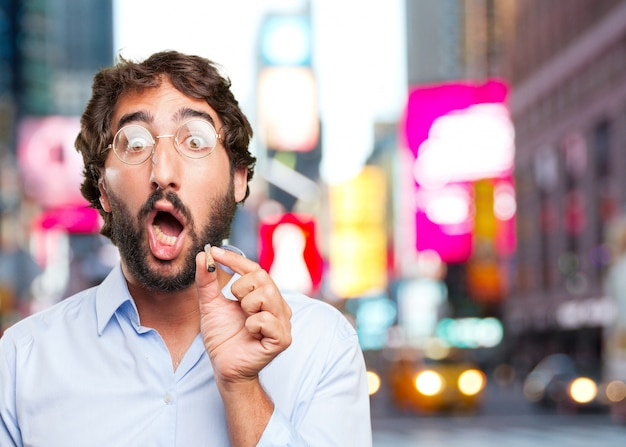cigarette: (202, 242, 217, 274)
